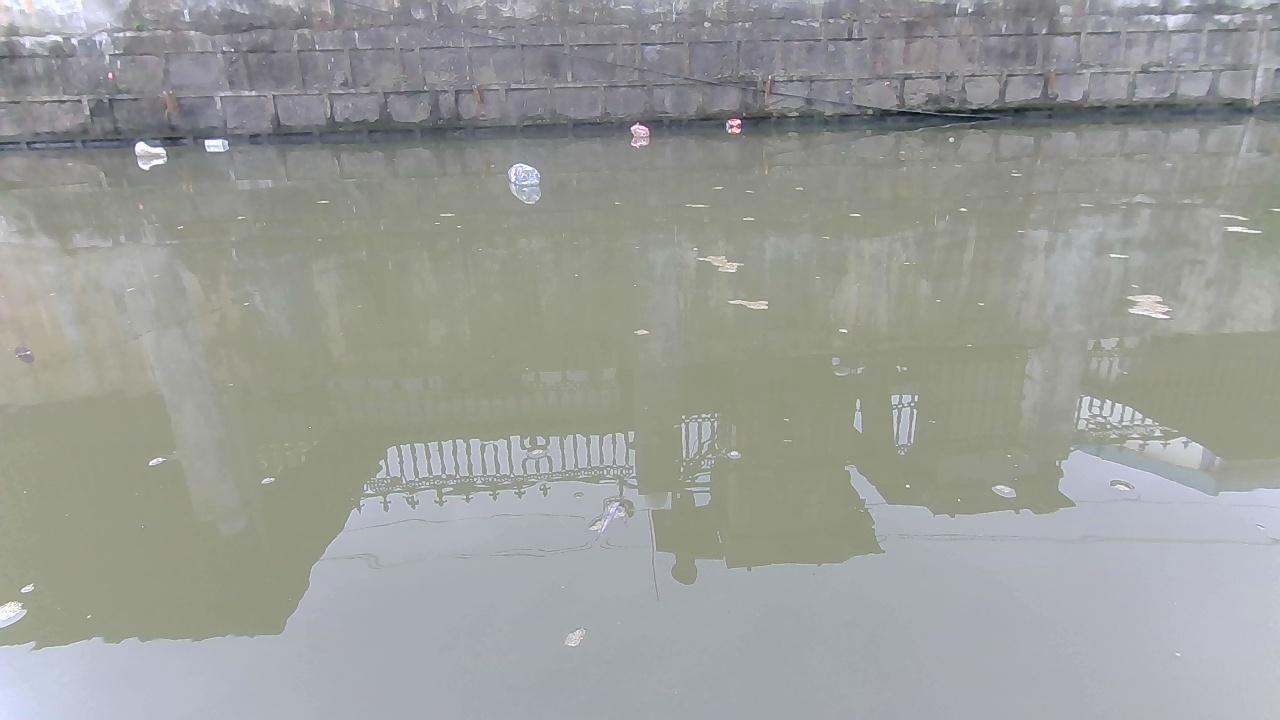bottle: (508, 157, 536, 190), (133, 139, 164, 162), (629, 119, 648, 139), (200, 133, 226, 147), (720, 117, 741, 128)
